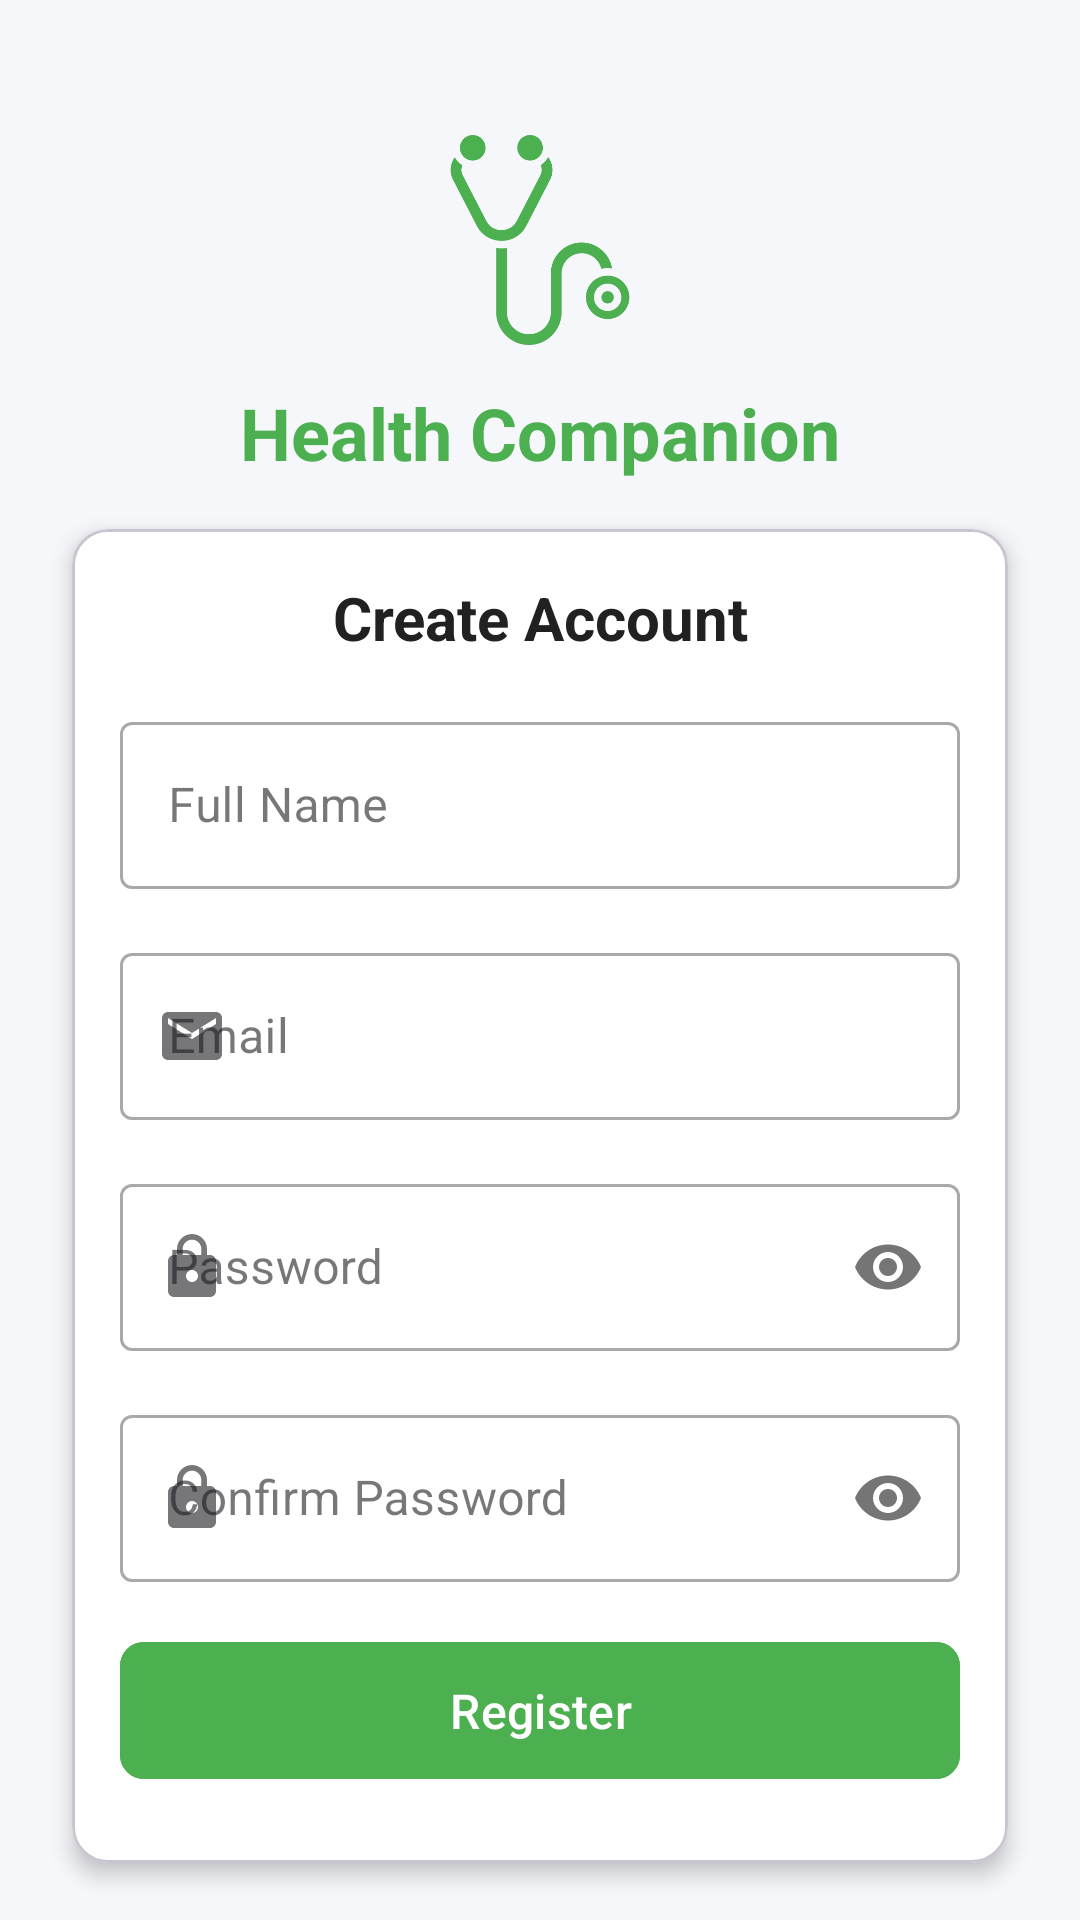

Locate icon controls on the screen. Image size 1080 × 1920, boxes as (x1, y1, x2, y2).
stethoscope: (450, 135, 630, 345)
